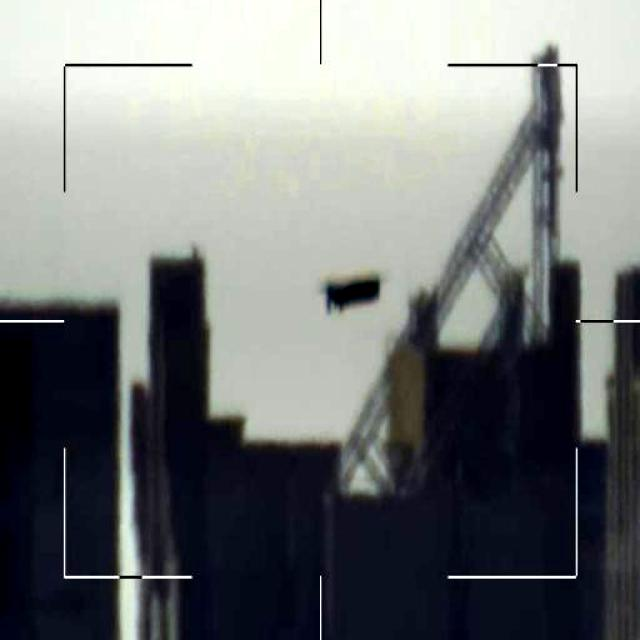bird: (322, 274, 381, 316)
